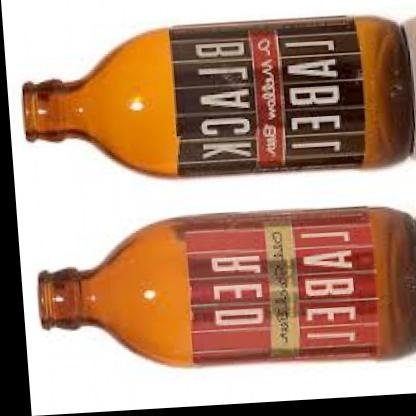trash: (23, 16, 413, 175), (39, 207, 415, 365)
